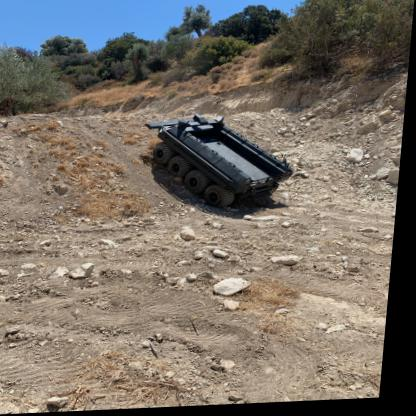UGV: (144, 114, 303, 212)
